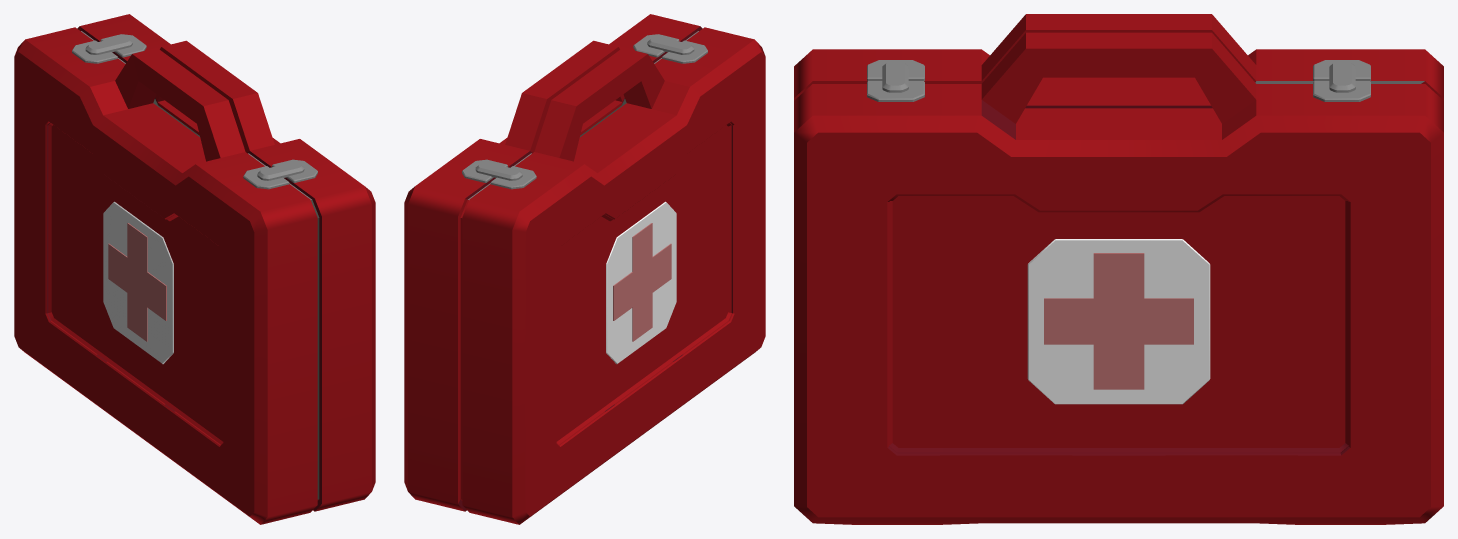
The model's file is MedKit.fbx.
3 views of the same model, side by side, from view 1: azimuth 30°, elevation 25°; view 2: azimuth 150°, elevation 25°; view 3: azimuth 270°, elevation 25° (orthographic). The views are drawn at different scales.
Parts seen in each view (by area): view 1: Medkit; view 2: Medkit; view 3: Medkit.
Part boxes in pixels (x1,y1,x2,y2): Medkit: (14, 14, 375, 524); Medkit: (404, 14, 765, 524); Medkit: (794, 14, 1443, 524).
Size of the model in its own units: 100 by 283 by 356.
